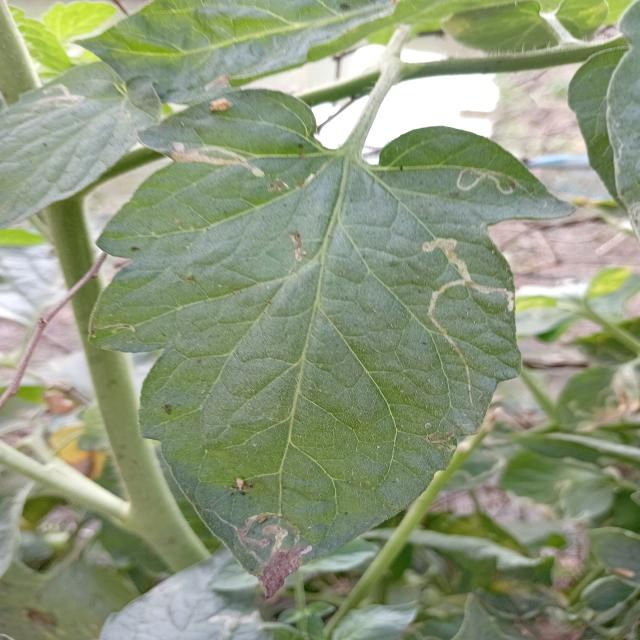Tuta absoluta: (390, 220, 521, 355), (169, 139, 268, 178), (456, 167, 517, 196)
